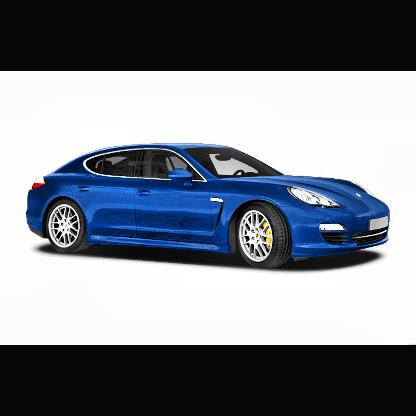Porsche Panamera Sedan 2012: (29, 144, 392, 270)
